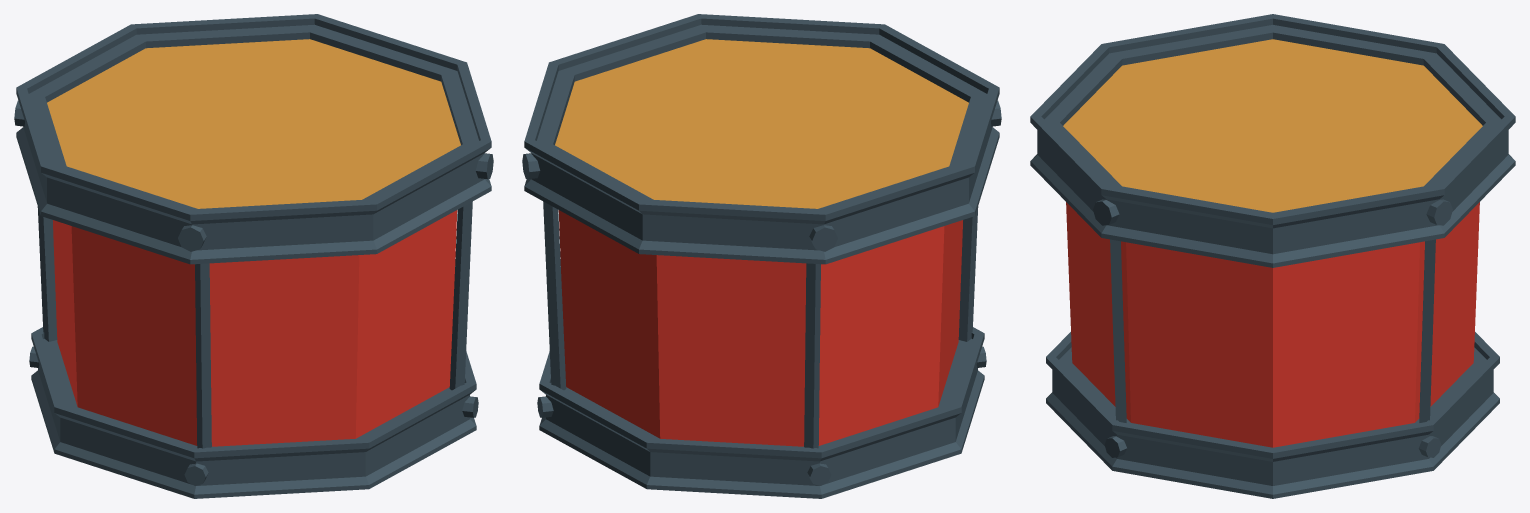
The model's file is Drum.glb.
3 views of the same model, side by side, from view 1: azimuth 30°, elevation 25°; view 2: azimuth 150°, elevation 25°; view 3: azimuth 270°, elevation 25° (orthographic).
Parts seen in each view (by area): view 1: Drum_Circle.002; view 2: Drum_Circle.002; view 3: Drum_Circle.002.
Part boxes in pixels (x1,y1,x2,y2): Drum_Circle.002: [14, 14, 493, 498]; Drum_Circle.002: [522, 14, 1001, 498]; Drum_Circle.002: [1030, 14, 1515, 498].
Size of the model in its own units: 11.57 by 7.54 by 11.57.
